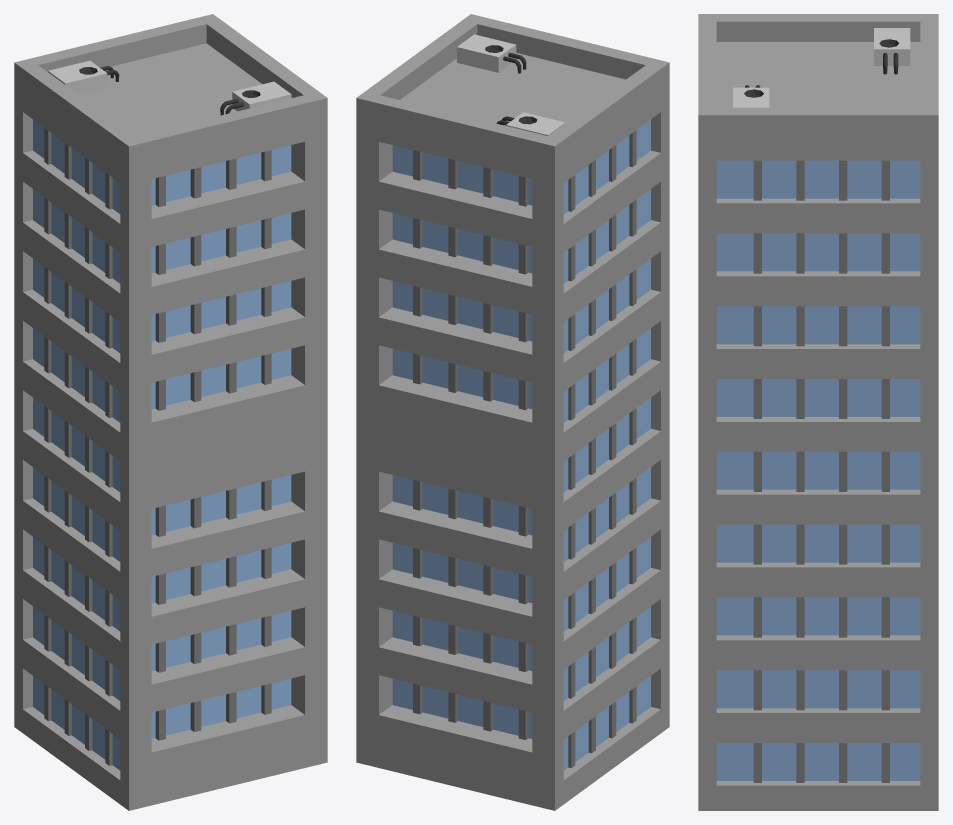
Rendered from Skyscraper.fbx.
3 views of the same model, side by side, from view 1: azimuth 30°, elevation 25°; view 2: azimuth 150°, elevation 25°; view 3: azimuth 270°, elevation 25° (orthographic). The views are drawn at different scales.
Parts seen in each view (by area): view 1: Skyscraper; view 2: Skyscraper; view 3: Skyscraper.
Part boxes in pixels (bbox=[...]): Skyscraper: bbox=[14, 14, 327, 810]; Skyscraper: bbox=[356, 14, 669, 810]; Skyscraper: bbox=[698, 14, 938, 810].
Bounding box in the file's own units: 500 × 1596 × 500.
